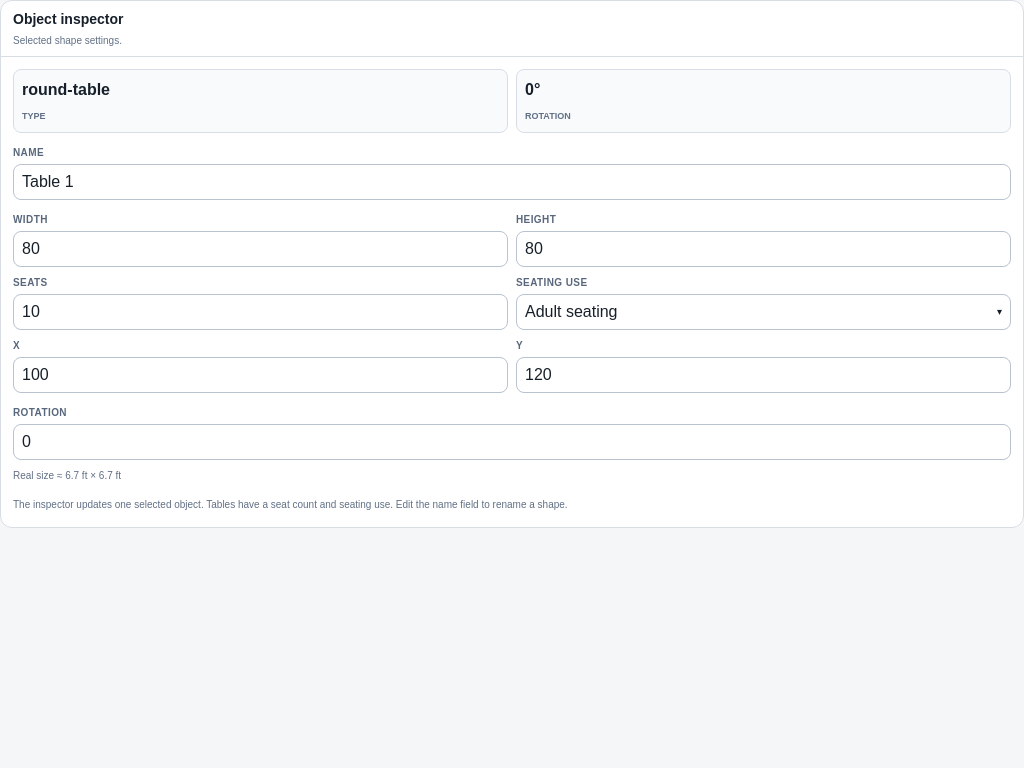
Test case: HallMapObjectInspector numeric fields › refuses a width below the bound the server enforces
Replace the text in the field labelled "Width" with "5": (260, 248) left=13, top=230, right=508, bottom=266
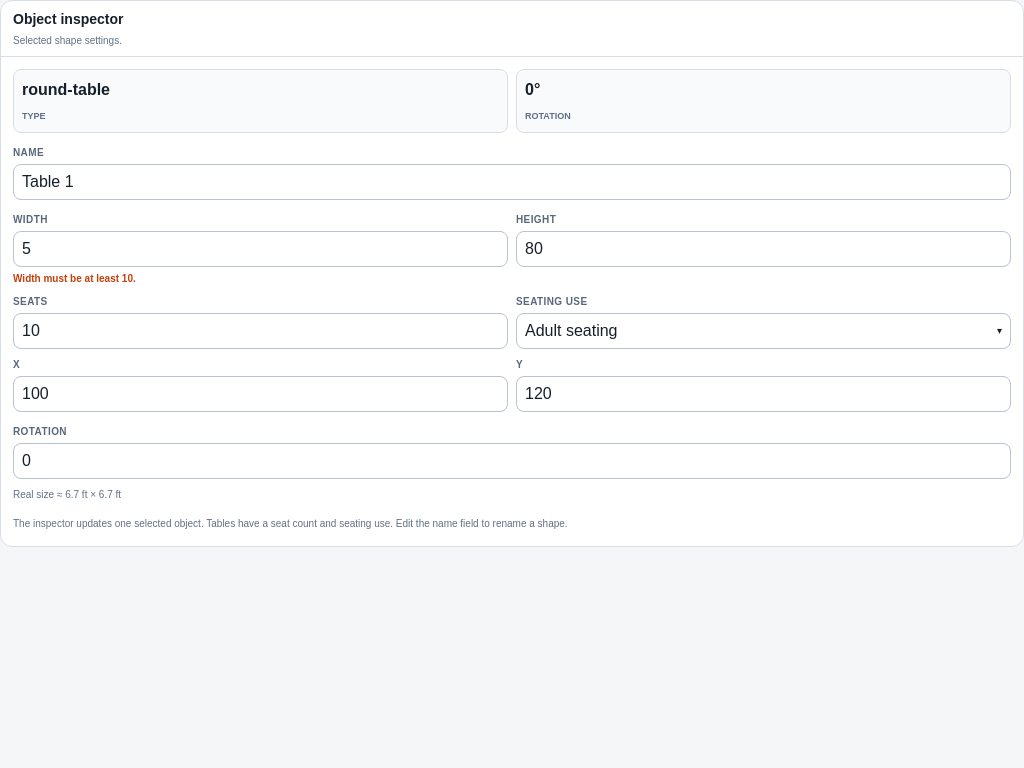
Expected: the message reads "Width must be at least 10.", left=13, top=272, right=136, bottom=284
